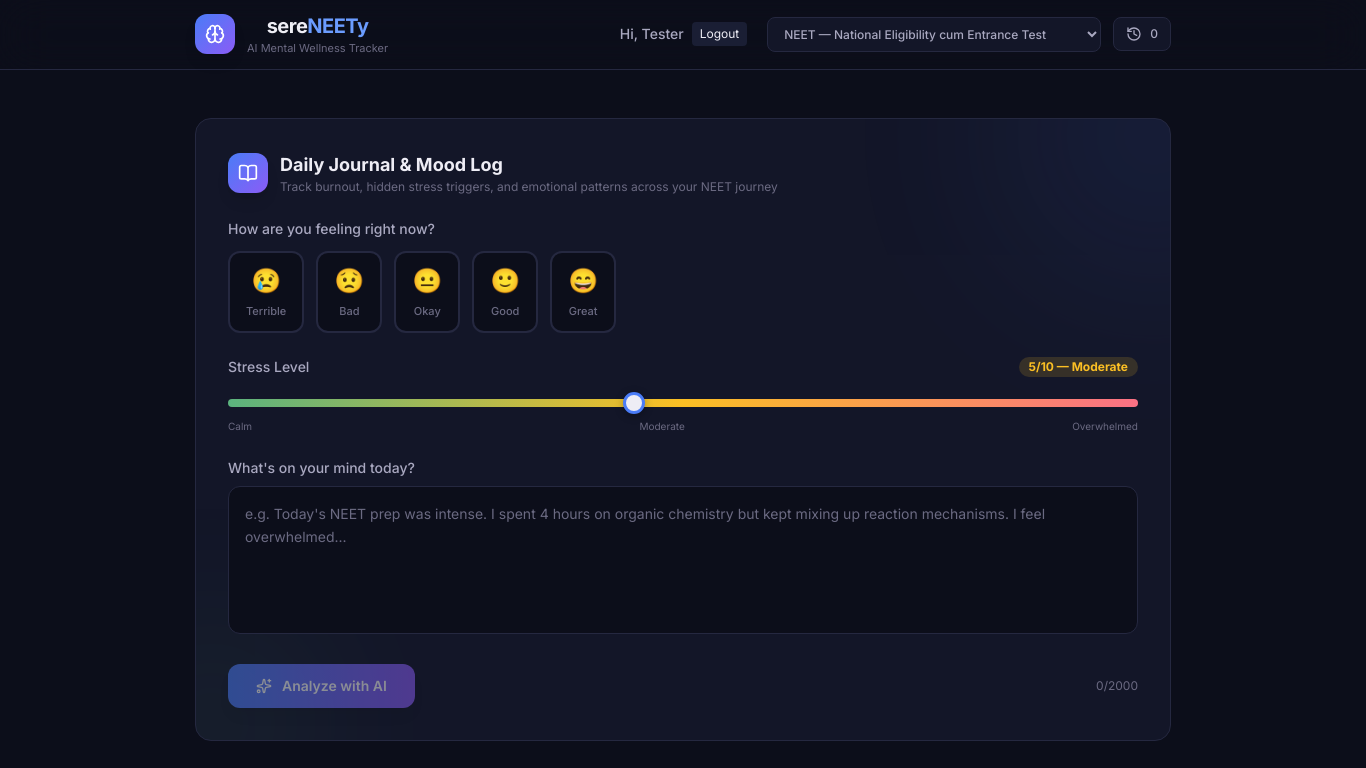
it: sereNEETy — Dashboard [CodeQuality:Efficiency:Accessibility:Security:Testing:ProblemStatement] › [Testing] enables analyze button when text and mood are provided
Replace the text in the text box named "Write your daily journal entry" with "NEET organic chemistry was tough": [683, 560] box [228,486,1138,634]
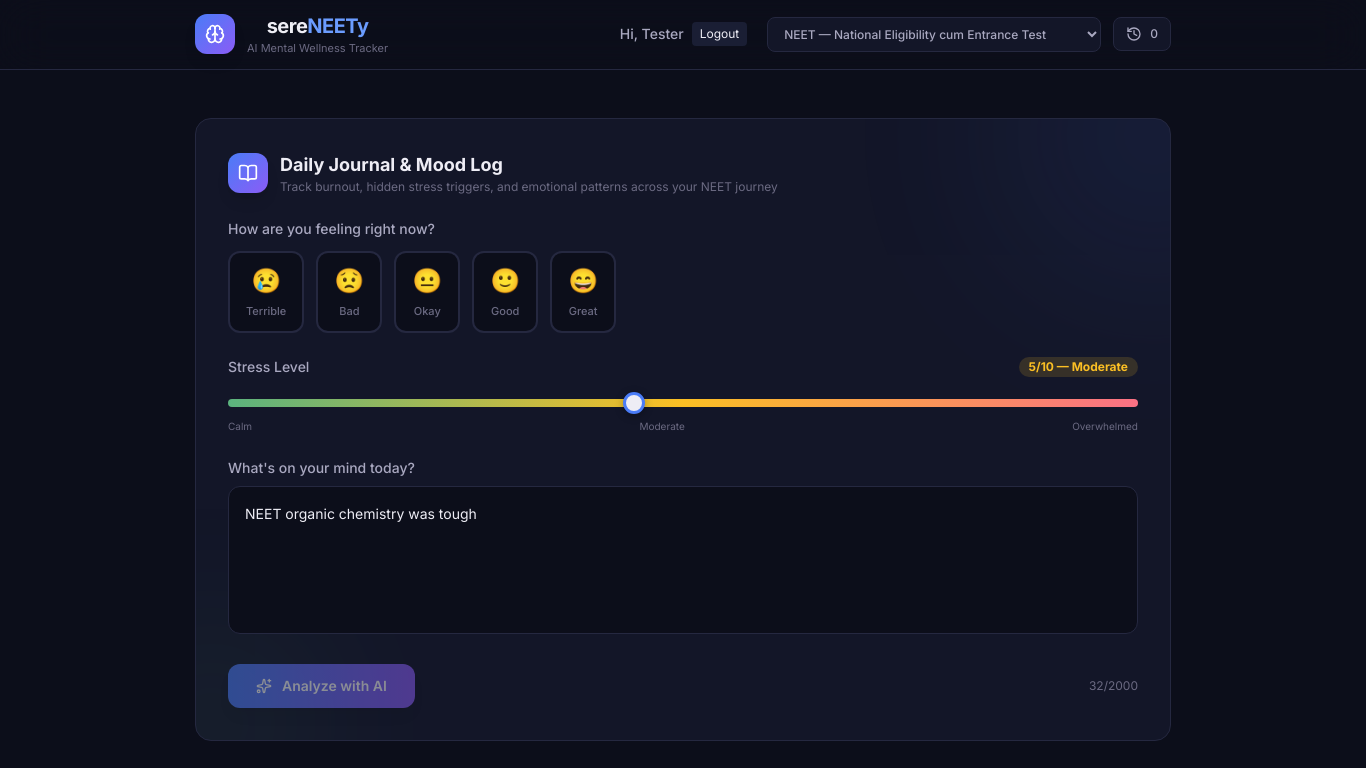
Click the radio button with aria-label "Mood: Good": [505, 292] box [472,250,538,333]
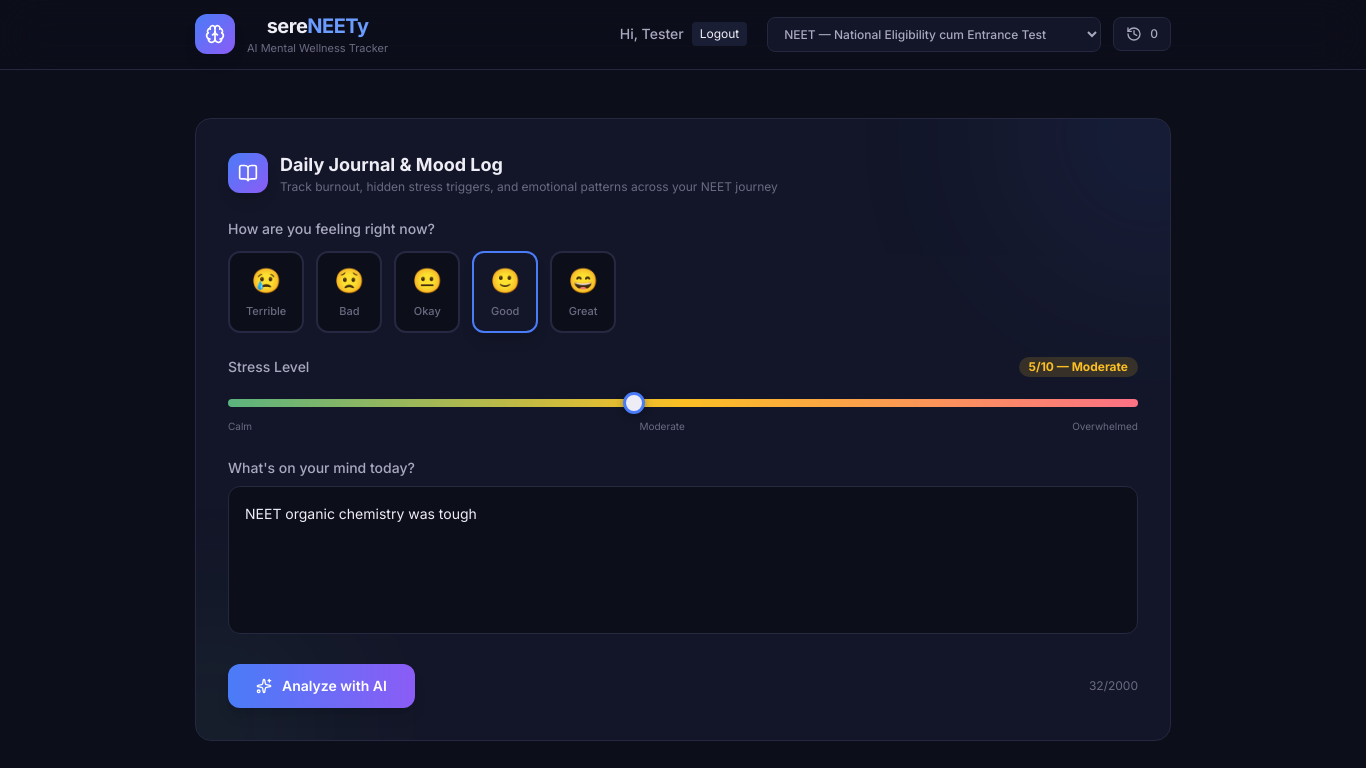
Result: the button with aria-label "analyze journal entry" is enabled at [228,664,415,708]
